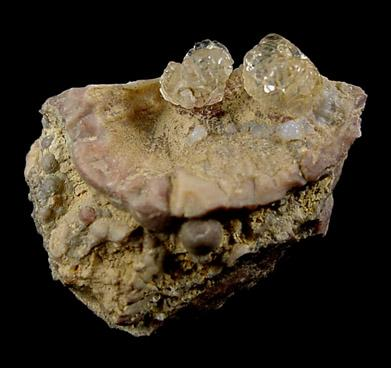opal: (245, 34, 323, 118), (160, 40, 234, 109)
